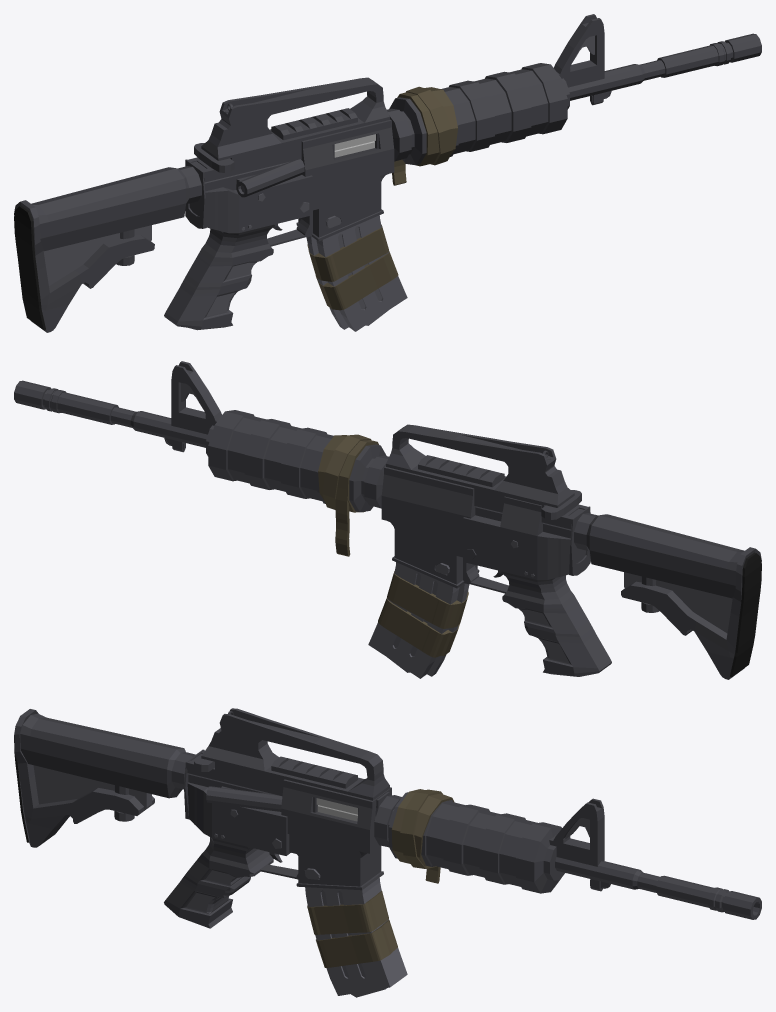
The picture shows the model from 3 angles, top to bottom: view 1: azimuth 30°, elevation 25°; view 2: azimuth 150°, elevation 25°; view 3: azimuth 330°, elevation 25°; orthographic projection.
Visible parts, largest first — view 1: Cube.001; view 2: Cube.001; view 3: Cube.001.
Part boxes in pixels (left/top/right/bottom): Cube.001: left=14, top=14, right=761, bottom=332; Cube.001: left=14, top=361, right=761, bottom=679; Cube.001: left=14, top=708, right=761, bottom=997.
Bounding box in the file's own units: 1191 × 390 × 112.
